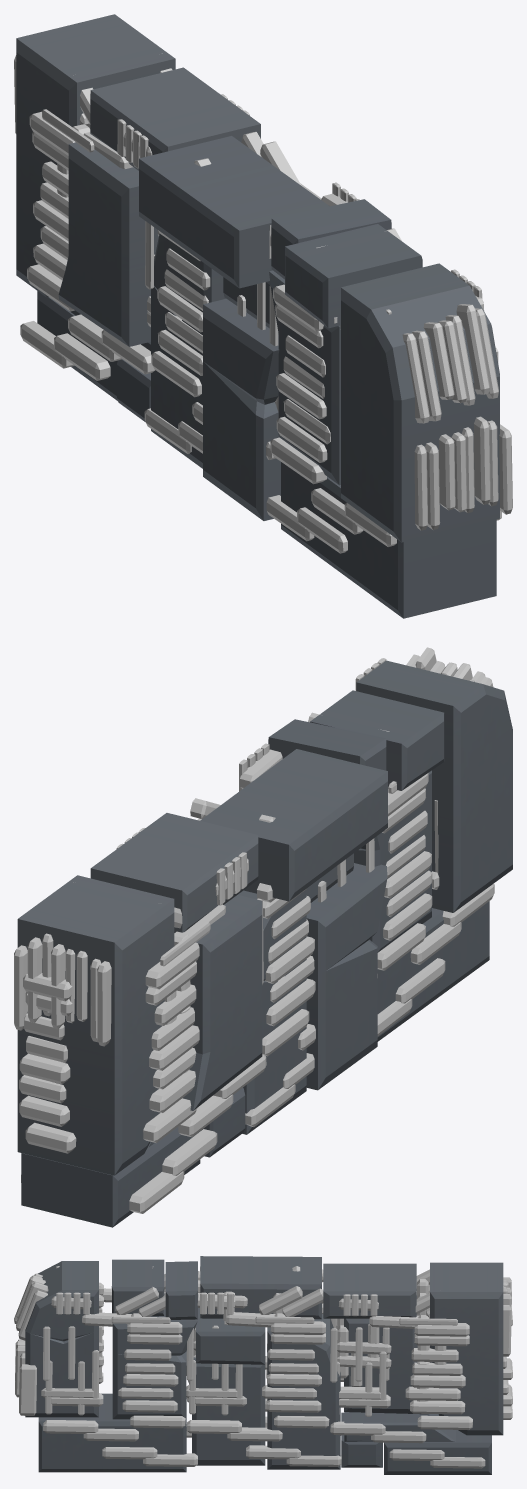
Rendered from muro4.fbx.
3 renders of one model, top to bottom at view 1: azimuth 30°, elevation 25°; view 2: azimuth 150°, elevation 25°; view 3: azimuth 270°, elevation 25°, orthographic. The views are drawn at different scales.
Parts seen in each view (by area): view 1: polySurface356; view 2: polySurface356; view 3: polySurface356.
Part boxes in pixels (bbox=[...]): polySurface356: bbox=[14, 14, 512, 618]; polySurface356: bbox=[14, 647, 512, 1227]; polySurface356: bbox=[14, 1256, 512, 1474].
Bounding box in the file's own units: 1894 × 3778 × 9306.
